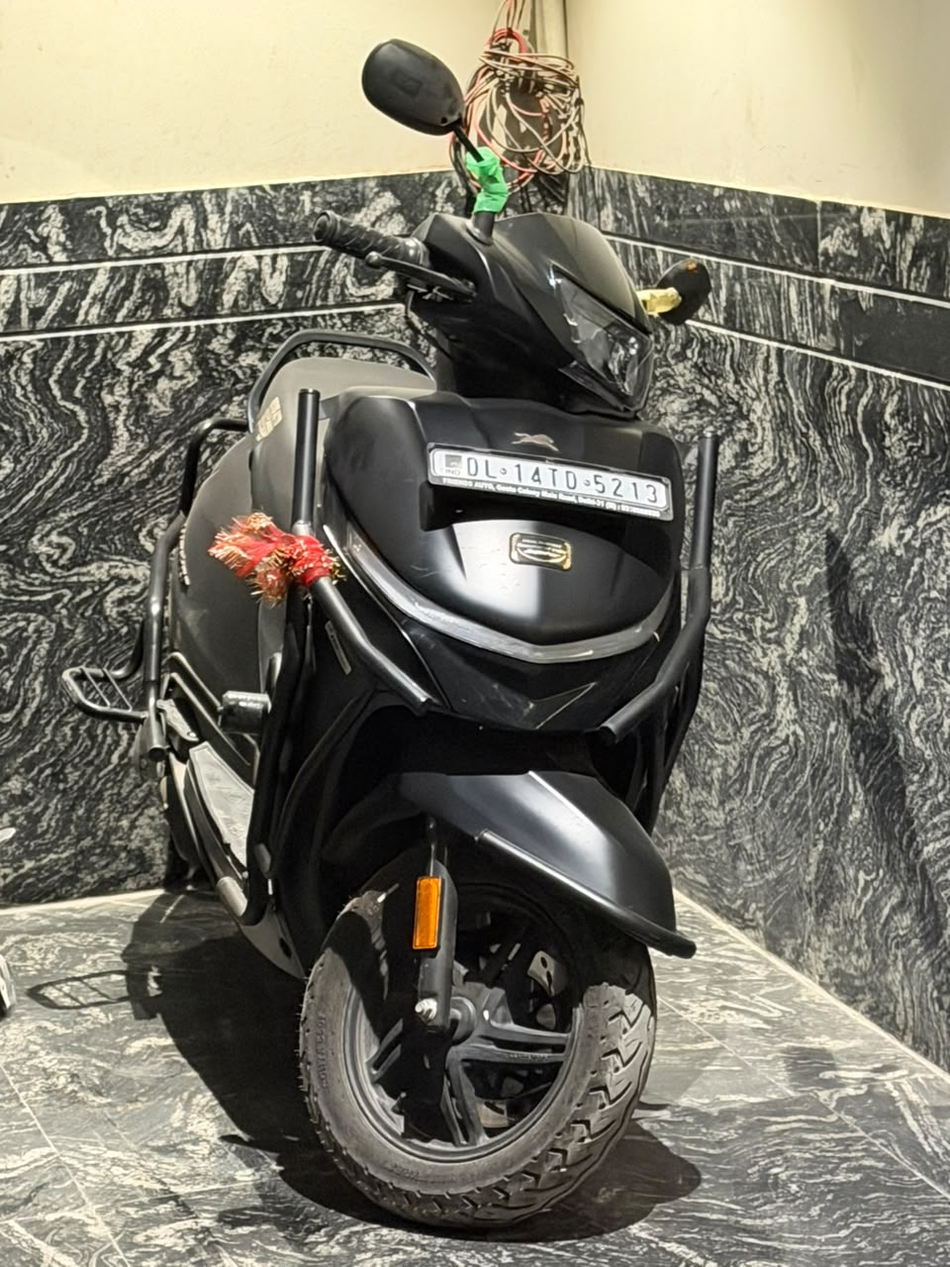vehicle: (426, 443, 670, 517)
